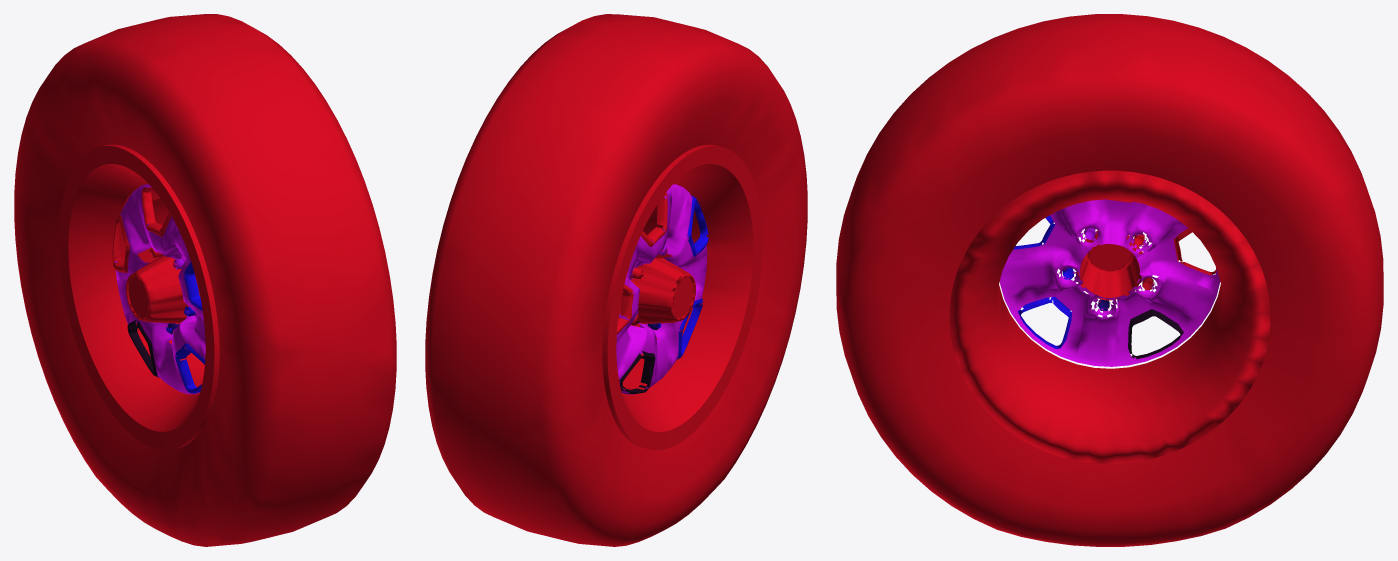
Rendered from llanta1.fbx.
The picture shows the model from 3 angles, left to right: view 1: azimuth 30°, elevation 25°; view 2: azimuth 150°, elevation 25°; view 3: azimuth 270°, elevation 25°; orthographic projection. The views are drawn at different scales.
Parts seen in each view (by area): view 1: wheels.001; view 2: wheels.001; view 3: wheels.001.
Part boxes in pixels (x1=…): wheels.001: x1=14, y1=14, x2=396, y2=546; wheels.001: x1=425, y1=14, x2=807, y2=546; wheels.001: x1=836, y1=14, x2=1383, y2=546.
Size of the model in its own units: 17.59 by 52.45 by 53.16.
